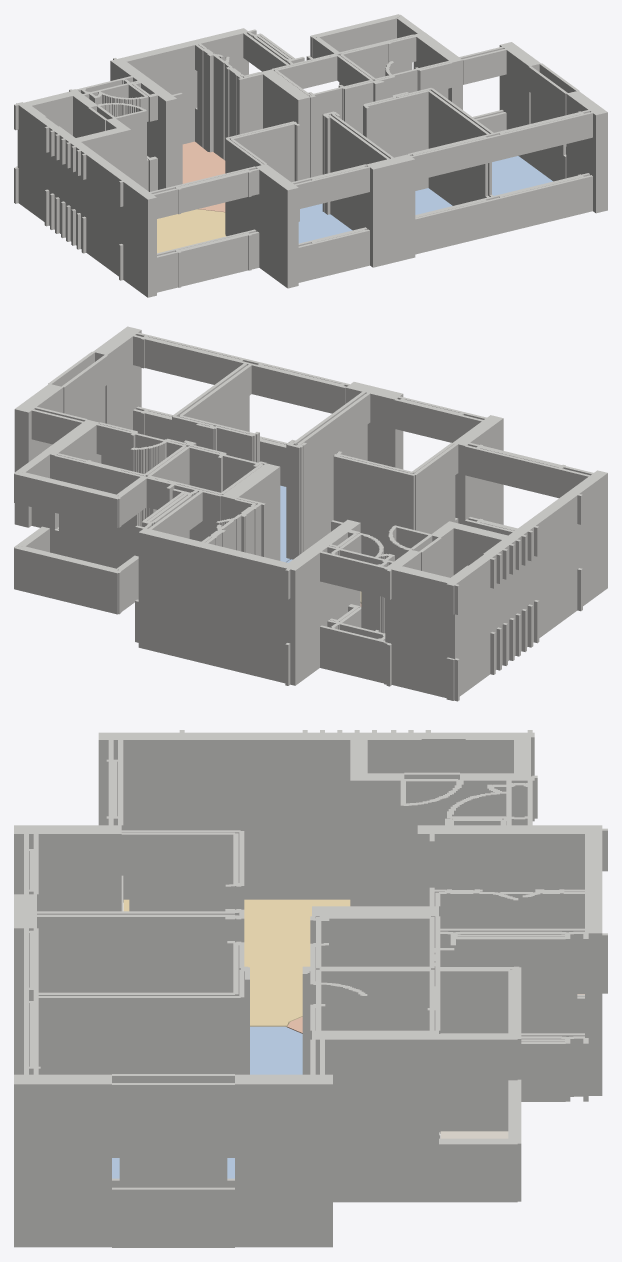
The picture shows the model from 3 angles, top to bottom: view 1: azimuth 30°, elevation 25°; view 2: azimuth 150°, elevation 25°; view 3: azimuth 270°, elevation 25°; orthographic projection. The views are drawn at different scales.
Visible parts, largest first — view 1: walls, room:living:5, room:bedroom:8, room:kitchen:0, room:bedroom:6, room:bedroom:7; view 2: walls, room:bedroom:7; view 3: walls, room:living:5, room:bedroom:6.
Part boxes in pixels (x1,y1,x2,y2): walls: [14, 14, 607, 297]; room:living:5: [157, 209, 226, 253]; room:bedroom:8: [492, 156, 552, 195]; room:kitchen:0: [182, 141, 225, 212]; room:bedroom:6: [298, 203, 352, 243]; room:bedroom:7: [415, 188, 452, 214]; walls: [14, 326, 607, 701]; room:bedroom:7: [280, 485, 289, 562]; walls: [14, 730, 607, 1247]; room:living:5: [123, 899, 350, 1026]; room:bedroom:6: [250, 1026, 302, 1074].
Size of the model in its own units: 13.09 by 2.8 by 9.26.
